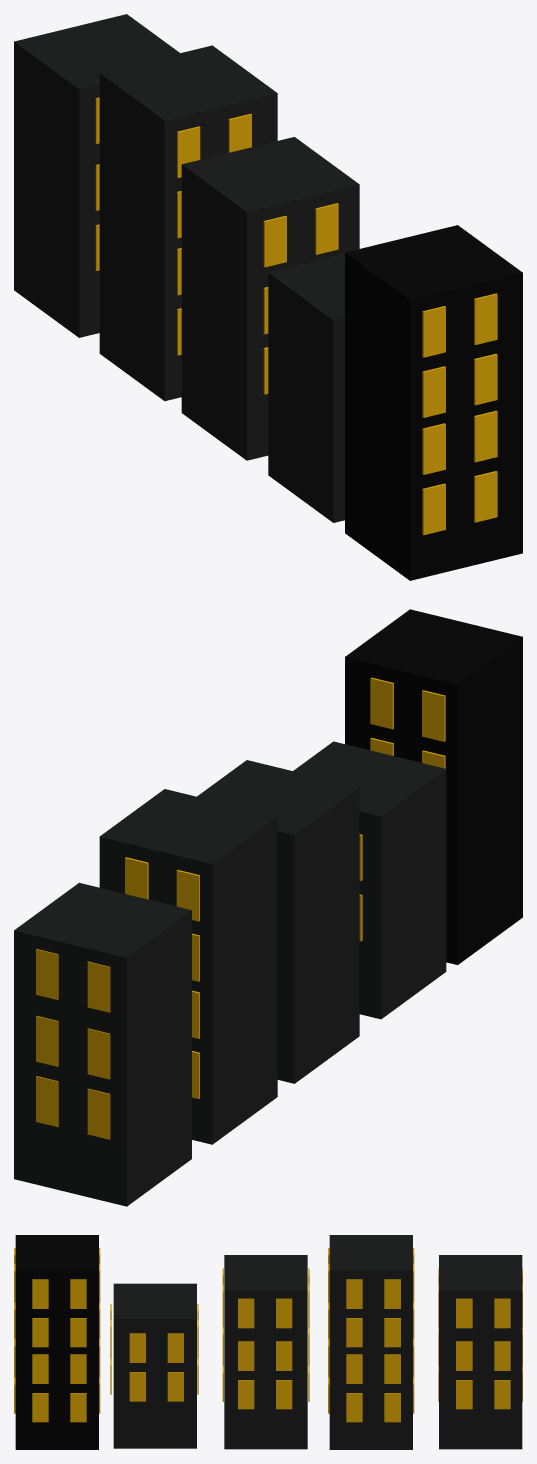
The model's file is CityFix.fbx.
3 views of the same model, one above another, from view 1: azimuth 30°, elevation 25°; view 2: azimuth 150°, elevation 25°; view 3: azimuth 270°, elevation 25° (orthographic). The views are drawn at different scales.
Visible parts, largest first — view 1: Buliding4, Building6, Building2, Building5, Building3, Window.009, Window.005, Window.008, Window.006; view 2: Building5, Buliding4, Building6, Building2, Building3, Window.006, Window.008, Window.009; view 3: Buliding4, Building6, Building5, Building2, Building3, Window.008, Window.009, Window.005, Window.006, Window.007.
Part boxes in pixels (x1=…): Buliding4: x1=345, y1=225, x2=522, y2=580; Building6: x1=99, y1=45, x2=277, y2=401; Building2: x1=181, y1=137, x2=359, y2=460; Building5: x1=14, y1=14, x2=179, y2=337; Building3: x1=268, y1=254, x2=344, y2=522; Window.009: x1=422, y1=293, x2=497, y2=535; Window.005: x1=263, y1=203, x2=338, y2=394; Window.008: x1=177, y1=113, x2=251, y2=355; Window.006: x1=95, y1=97, x2=99, y2=270; Building5: x1=14, y1=882, x2=191, y2=1206; Buliding4: x1=345, y1=609, x2=522, y2=964; Building6: x1=99, y1=789, x2=277, y2=1144; Building2: x1=197, y1=760, x2=359, y2=1083; Building3: x1=293, y1=741, x2=446, y2=1019; Window.006: x1=36, y1=949, x2=110, y2=1139; Window.008: x1=125, y1=857, x2=199, y2=1098; Window.009: x1=370, y1=677, x2=445, y2=768; Buliding4: x1=15, y1=1235, x2=98, y2=1449; Building6: x1=329, y1=1235, x2=412, y2=1449; Building5: x1=439, y1=1255, x2=522, y2=1449; Building2: x1=224, y1=1255, x2=307, y2=1449; Building3: x1=113, y1=1283, x2=196, y2=1448; Window.008: x1=328, y1=1248, x2=414, y2=1422; Window.009: x1=14, y1=1248, x2=100, y2=1422; Window.005: x1=222, y1=1268, x2=309, y2=1409; Window.006: x1=438, y1=1268, x2=522, y2=1409; Window.007: x1=110, y1=1304, x2=198, y2=1401.
Size of the model in its own units: 202 by 475 by 1221.
